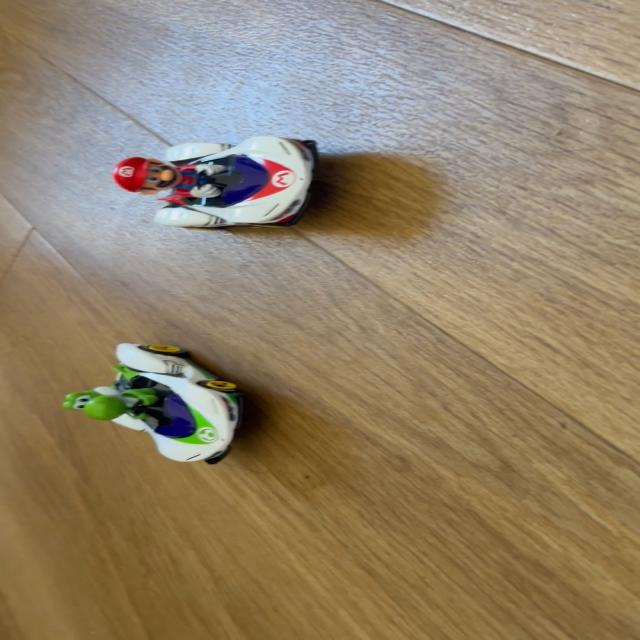mario: (100, 134, 333, 240)
yoshi: (47, 336, 258, 475)
